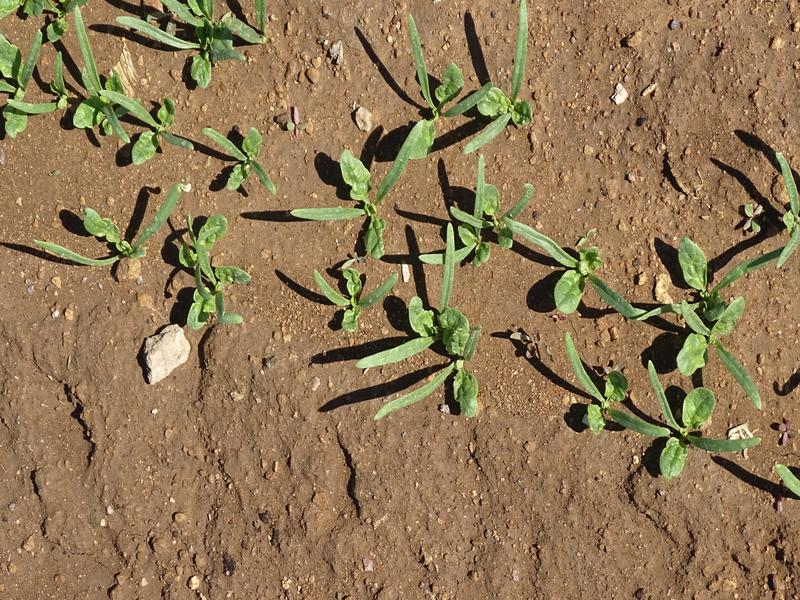Espinaca: (8, 1, 274, 313), (323, 23, 519, 419), (567, 328, 759, 477), (526, 219, 633, 312), (667, 244, 736, 326), (771, 147, 800, 241)
